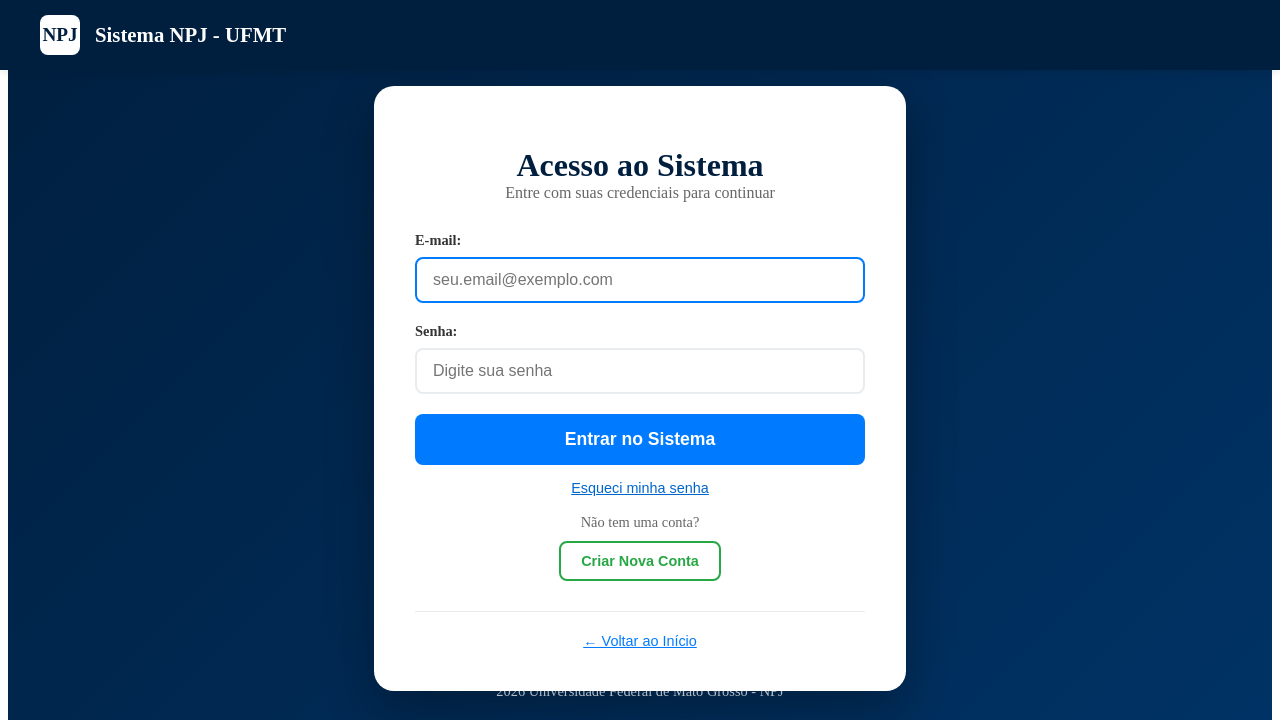
Sistema NPJ › abre o único fluxo público de cadastro pela tela de login
Click the button "Criar Nova Conta" at x=640, y=561, box [559,541,721,581]
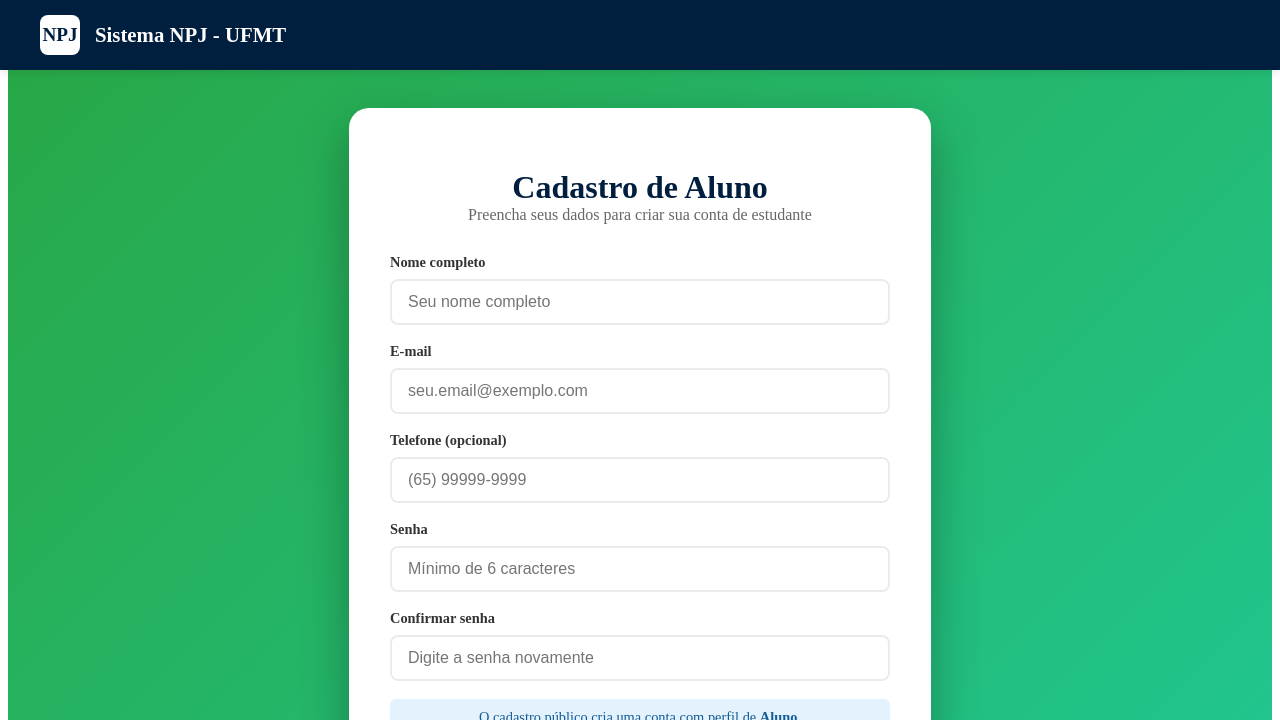
Result: the heading "Cadastro de Aluno" is shown at [512,169,768,205]
Result: the field with id "register-nome" is shown at [390,279,890,325]
Result: the password field with id "register-confirmarSenha" is shown at [390,635,890,681]
